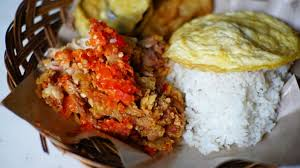ayam_geprek: (25, 21, 196, 162)
